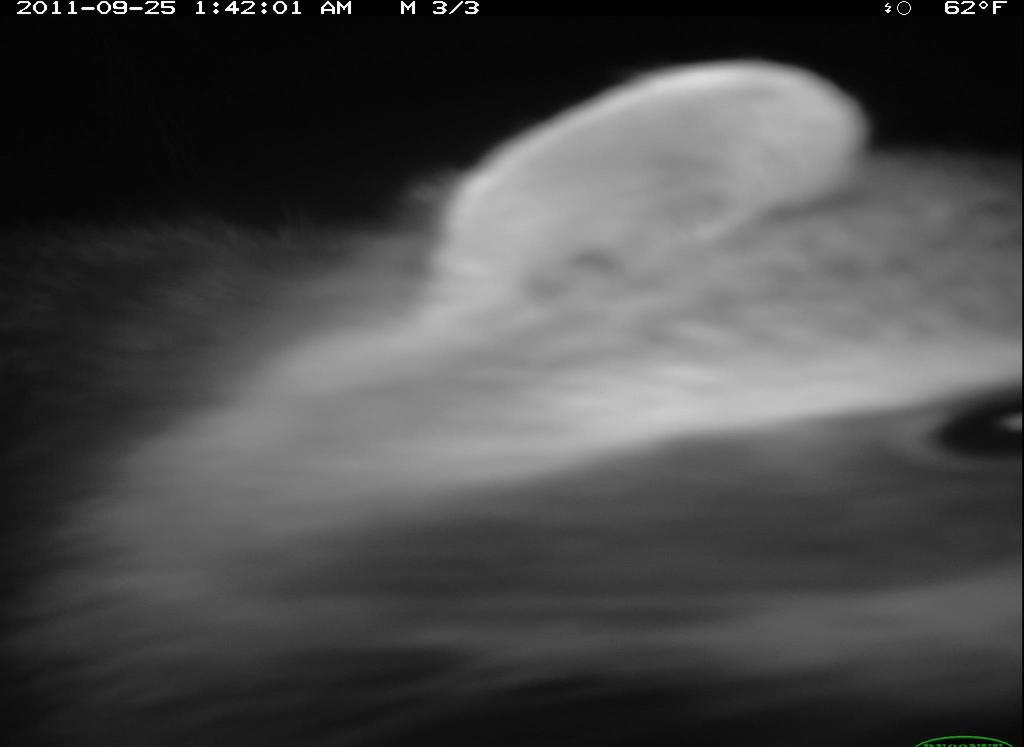raccoon: (2, 53, 1012, 738)
